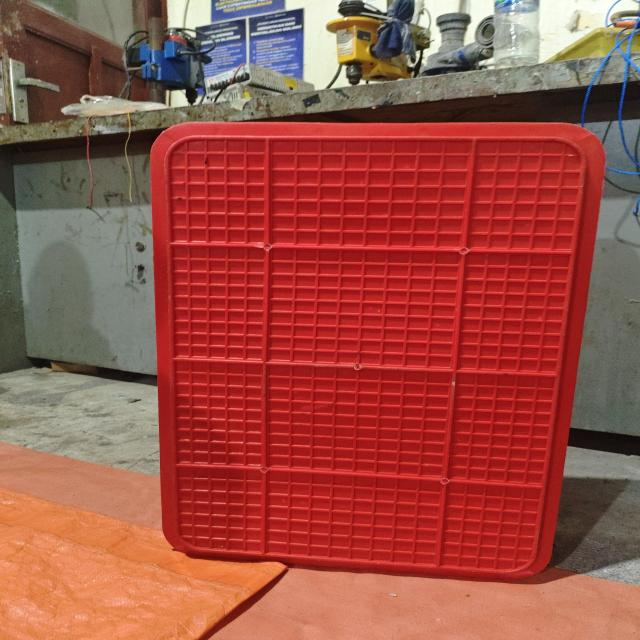red plastic box: (149, 121, 607, 580)
